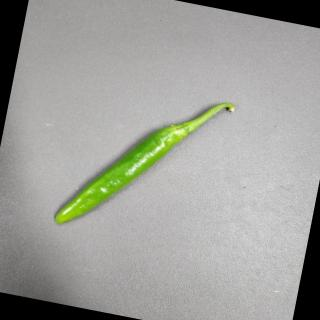Cabai Hijau: (38, 46, 254, 274)
